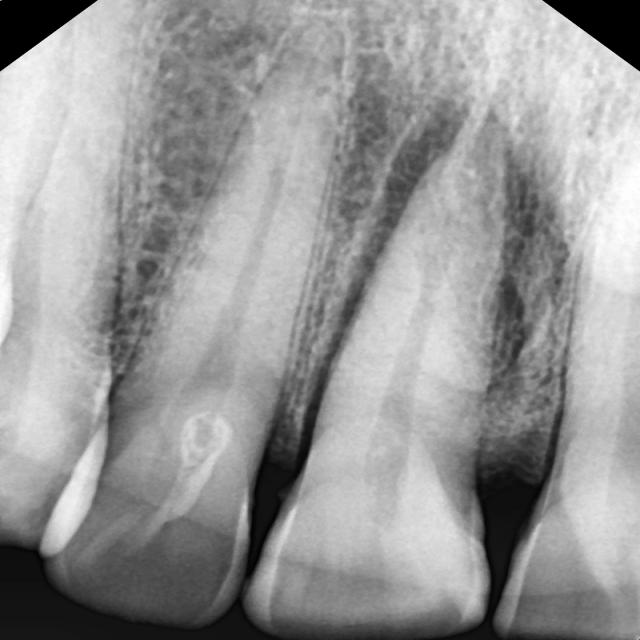Normal: (245, 129, 522, 640)
